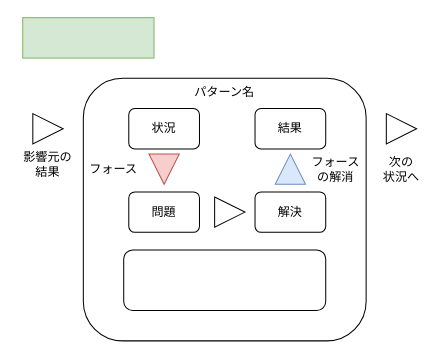
Some shapes in this 448 by 359 pixel diagram are drawn without their labels. The shapes that lost their labels are listed below. From the top down, each one's box as (x1, y1, x2, y2) in pixels, then its label:
(22, 17, 154, 58): パターンの要素
(123, 249, 326, 311): イラスト
